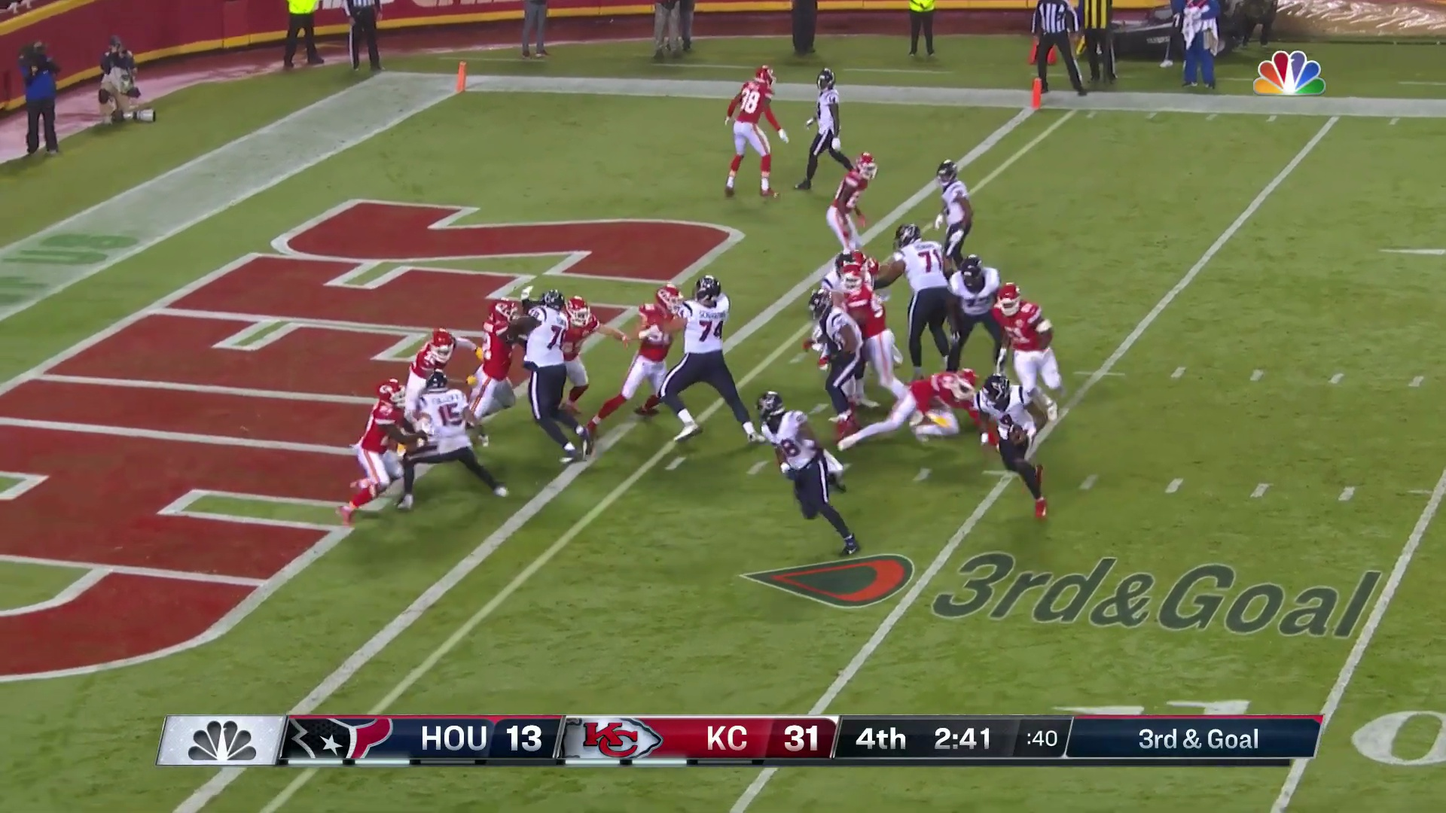Player: (668, 276, 739, 431), (976, 373, 1051, 516), (992, 283, 1062, 430), (343, 379, 410, 517), (836, 252, 895, 391), (810, 289, 863, 443), (622, 283, 684, 414), (896, 224, 951, 369), (547, 295, 598, 438), (406, 371, 471, 482), (405, 329, 465, 445), (726, 65, 779, 196), (468, 296, 522, 422), (524, 290, 570, 430), (947, 255, 1004, 367), (911, 370, 982, 441), (830, 248, 880, 334)
